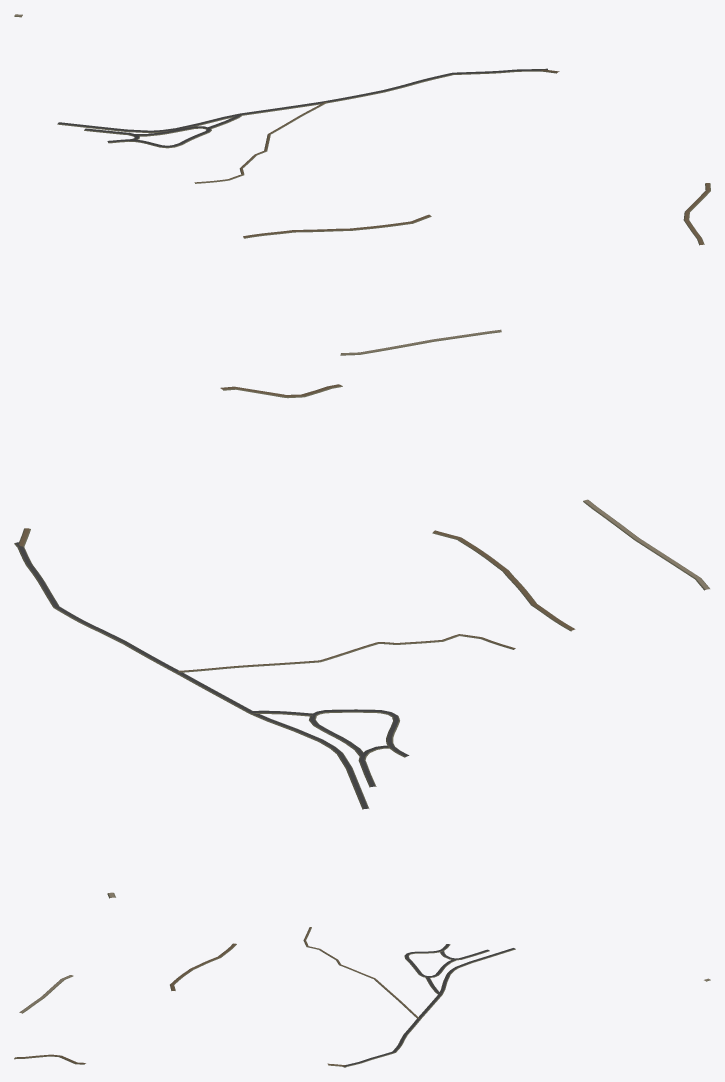
3 renders of one model, top to bottom at view 1: azimuth 30°, elevation 25°; view 2: azimuth 150°, elevation 25°; view 3: azimuth 270°, elevation 25°, orthographic. The views are drawn at different scales.
Visible parts, largest first — view 1: roads; view 2: roads; view 3: roads.
Part boxes in pixels (box(x1,y1,x2,y2)): roads: box(14, 14, 710, 355); roads: box(14, 384, 709, 898); roads: box(14, 927, 710, 1067).
Size of the model in its own units: 416 by 75.38 by 807.
